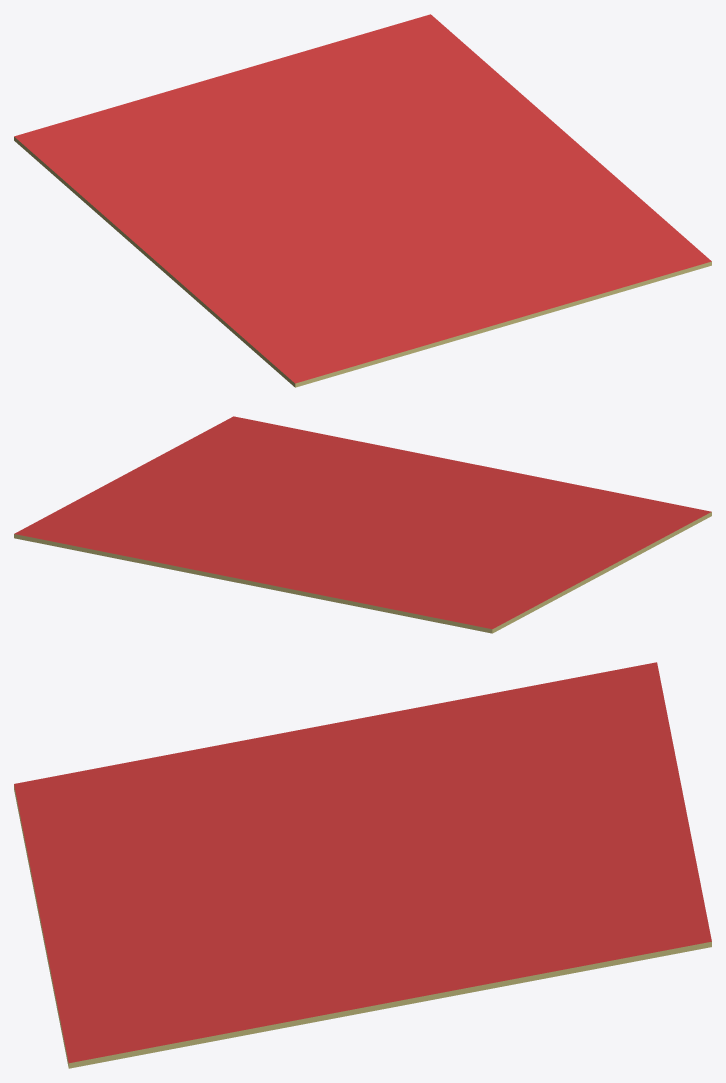
The picture shows the model from 3 angles, top to bottom: view 1: azimuth 30°, elevation 25°; view 2: azimuth 150°, elevation 25°; view 3: azimuth 270°, elevation 25°; orthographic projection. The views are drawn at different scales.
Size of the model in its own units: 11.9 by 11.63 by 1.92.
